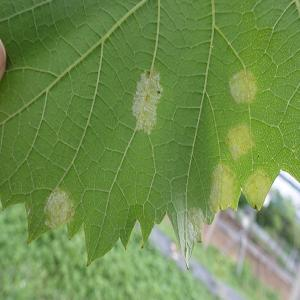Folha: (0, 0, 299, 269)
Fungo: (131, 68, 163, 135), (208, 162, 240, 212), (43, 186, 75, 230), (240, 167, 272, 211), (225, 122, 255, 162), (228, 68, 258, 105)
